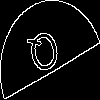Q: (25, 25, 65, 85)
